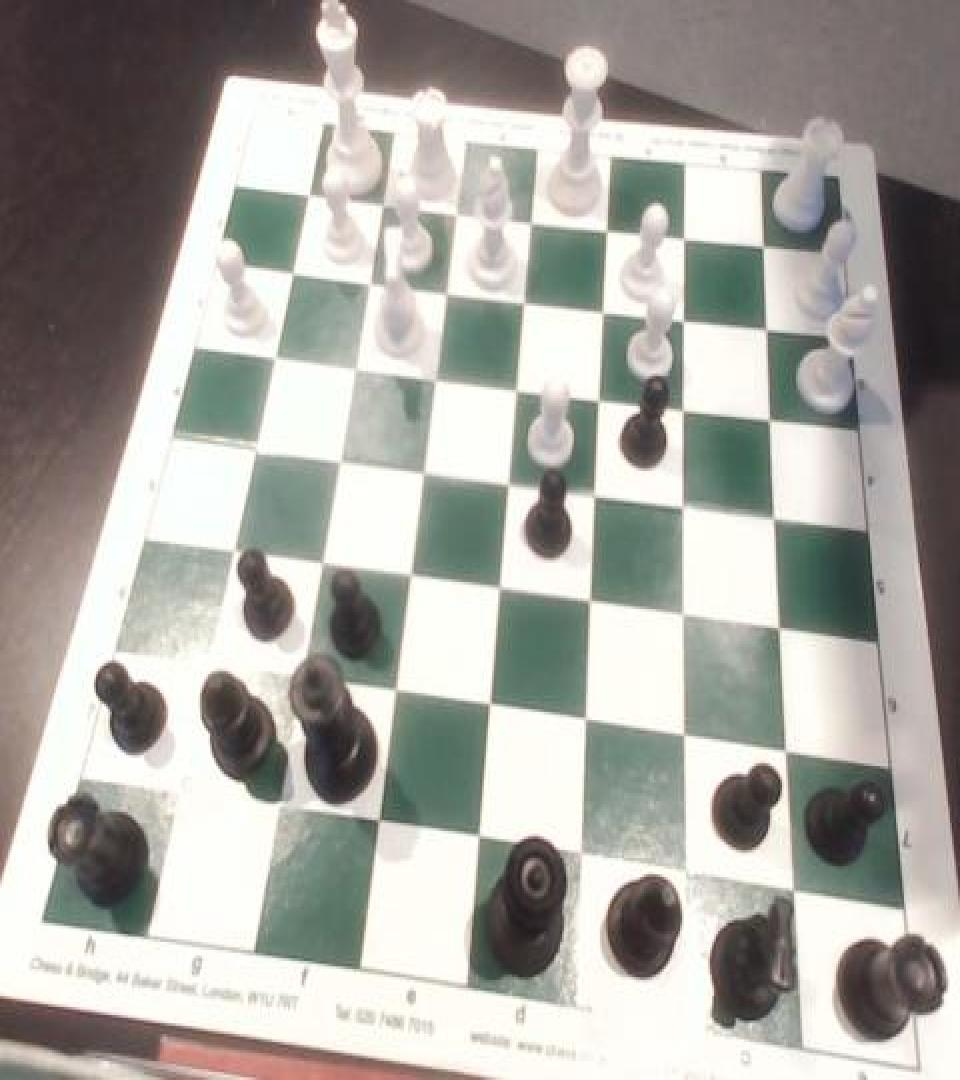xcorner: (769, 610, 799, 651), (764, 498, 794, 539), (755, 307, 785, 348), (674, 855, 704, 896), (674, 487, 704, 528), (673, 387, 703, 428), (673, 215, 703, 256), (569, 839, 599, 880), (580, 583, 610, 624), (584, 475, 614, 516), (588, 376, 618, 417), (592, 288, 622, 329), (595, 207, 625, 248), (504, 365, 534, 406), (512, 277, 542, 318), (380, 675, 410, 716), (433, 268, 463, 309), (262, 790, 292, 831), (305, 544, 335, 585), (339, 345, 369, 386), (368, 180, 398, 221), (238, 429, 268, 470), (258, 334, 288, 375), (277, 249, 307, 290), (781, 873, 811, 913), (775, 734, 805, 774), (759, 398, 789, 438), (751, 225, 781, 265), (674, 719, 704, 759), (674, 597, 704, 637), (673, 298, 703, 338), (575, 704, 605, 744), (465, 823, 495, 863), (477, 689, 507, 729), (487, 570, 517, 610), (496, 463, 526, 503), (519, 198, 549, 238), (363, 807, 393, 847), (395, 558, 425, 598), (409, 451, 439, 491), (421, 356, 451, 396), (443, 190, 473, 230), (285, 661, 315, 701), (323, 440, 353, 480), (354, 259, 384, 299), (162, 776, 192, 816), (190, 647, 220, 687), (215, 532, 245, 572), (293, 172, 323, 212)
